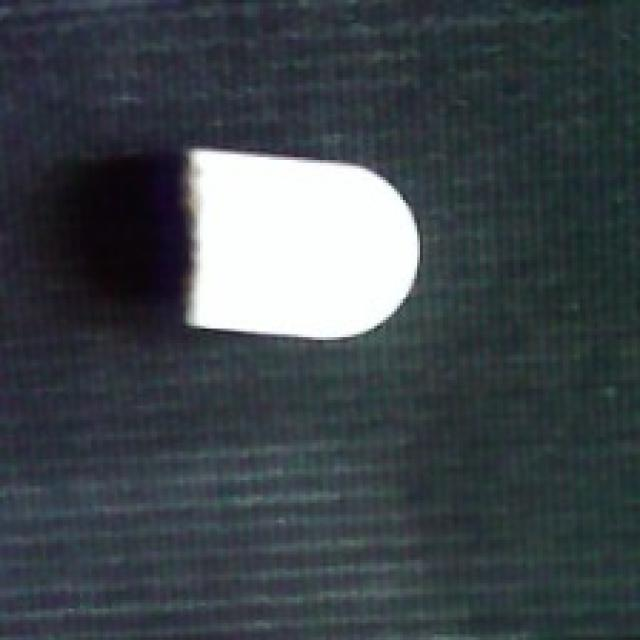defected: (166, 140, 426, 346)
